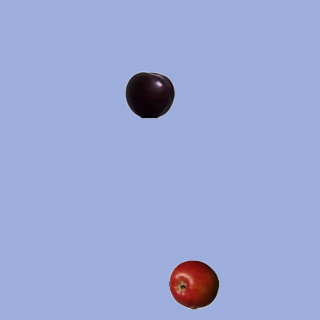Apple Braeburn: (168, 259, 218, 309)
Cherry Wax Black: (124, 69, 174, 119)
